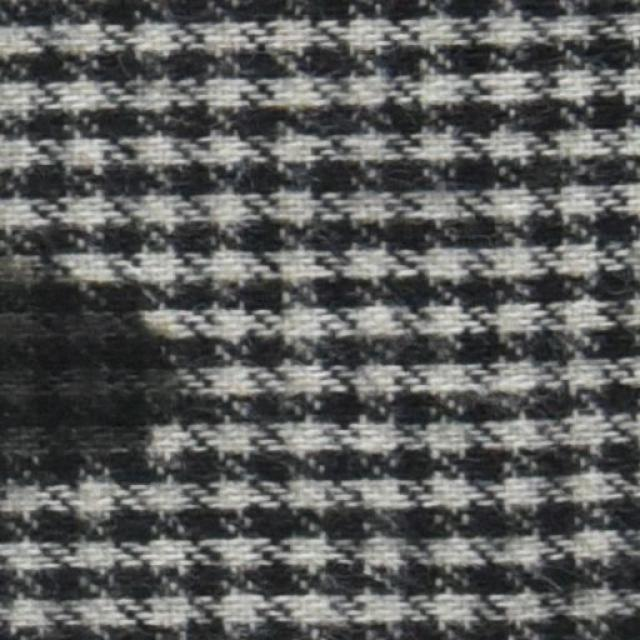Stain: (0, 245, 182, 494)
